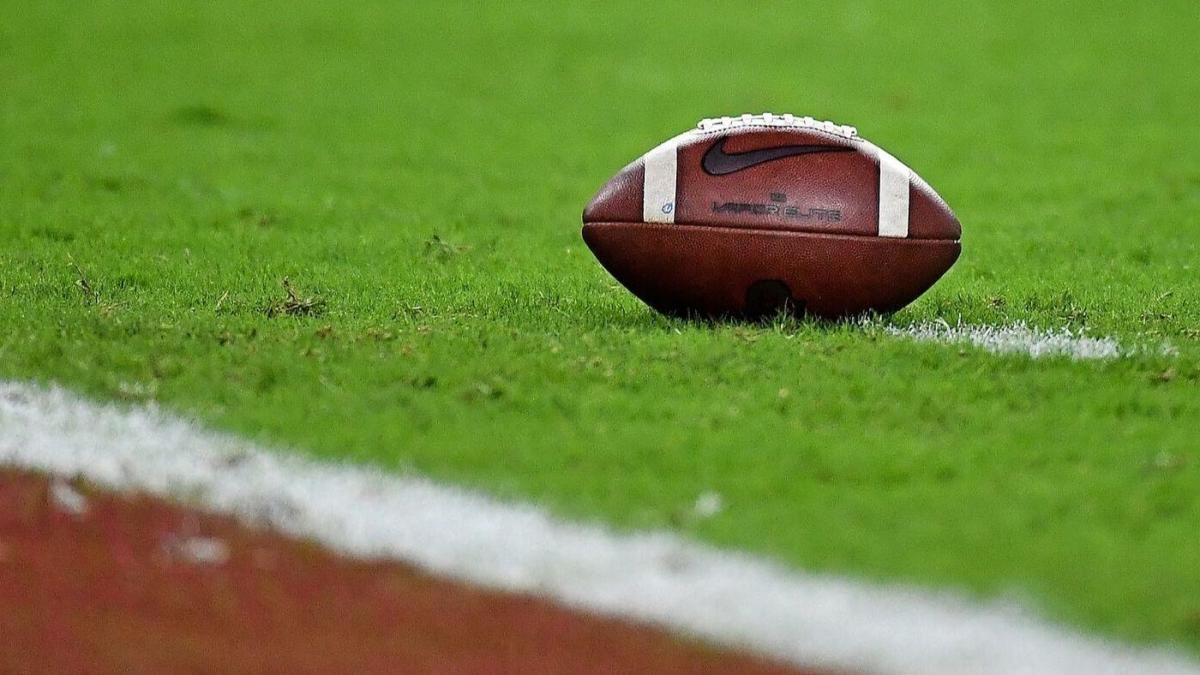Sports-Ball: (584, 112, 961, 322)
